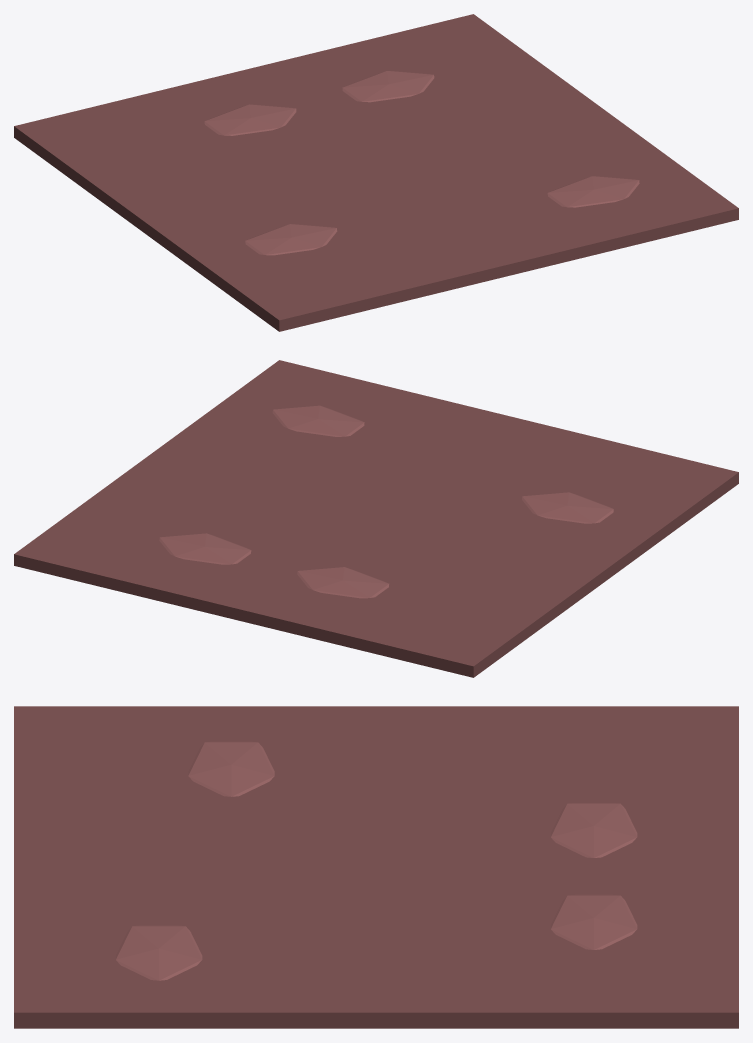
Rendered from SH10_L08_Ground.fbx.
3 renders of one model, top to bottom at view 1: azimuth 30°, elevation 25°; view 2: azimuth 150°, elevation 25°; view 3: azimuth 270°, elevation 25°, orthographic. The views are drawn at different scales.
Parts seen in each view (by area): view 1: SH10_L08_Ground; view 2: SH10_L08_Ground; view 3: SH10_L08_Ground.
Part boxes in pixels (x1,y1,x2,y2): SH10_L08_Ground: (14,14,738,331); SH10_L08_Ground: (14,360,738,677); SH10_L08_Ground: (14,706,738,1028).
Bounding box in the file's own units: 1000 × 28.5 × 1000.
